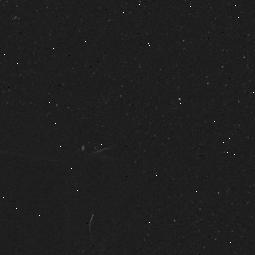cheops: (10, 125, 122, 163)
